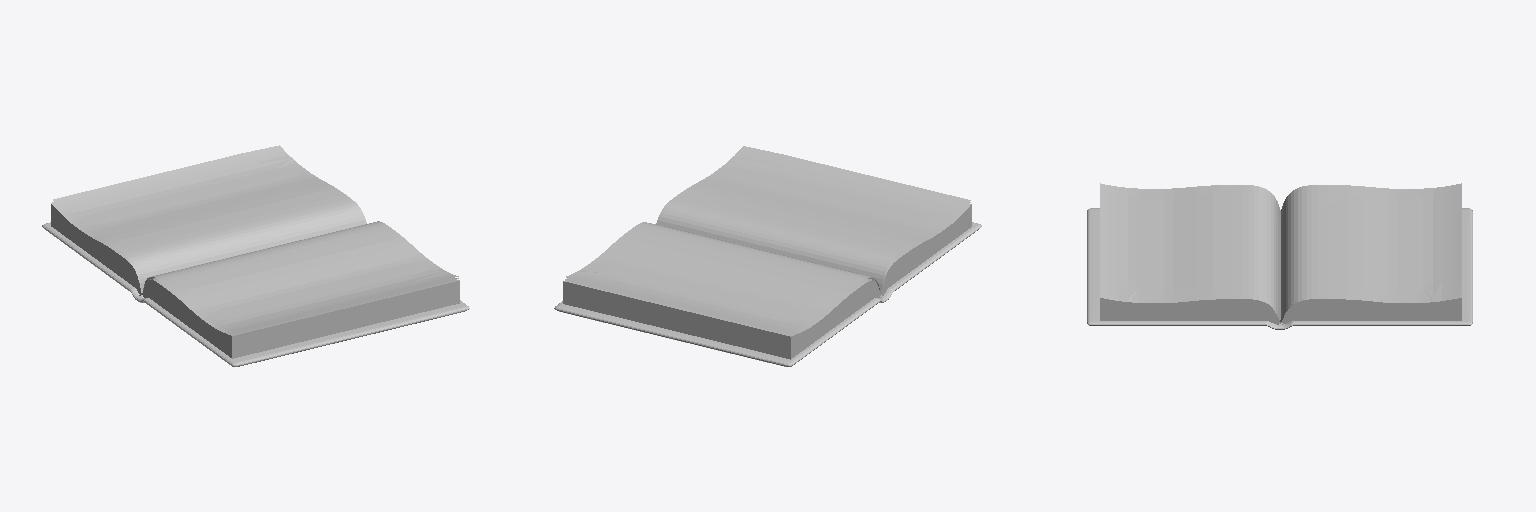
The model's file is open_book.obj.
3 renders of one model, left to right at view 1: azimuth 30°, elevation 25°; view 2: azimuth 150°, elevation 25°; view 3: azimuth 270°, elevation 25°, orthographic.
Visible parts, largest first — view 1: OpenBook; view 2: OpenBook; view 3: OpenBook.
Part boxes in pixels (bbox=[...]): OpenBook: bbox=[42, 145, 469, 366]; OpenBook: bbox=[554, 146, 981, 366]; OpenBook: bbox=[1087, 183, 1472, 329].
Bounding box in the file's own units: 0.5034 × 0.0704 × 0.7072.